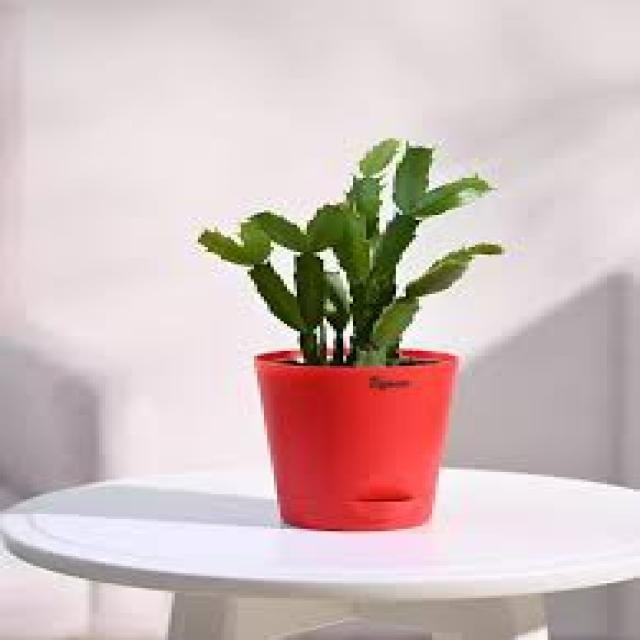cactus: (158, 102, 512, 363)
